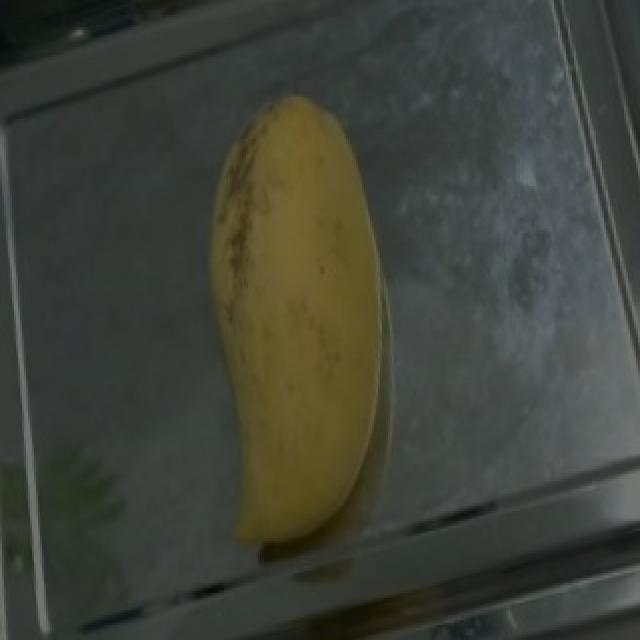fruit: (174, 64, 478, 474)
